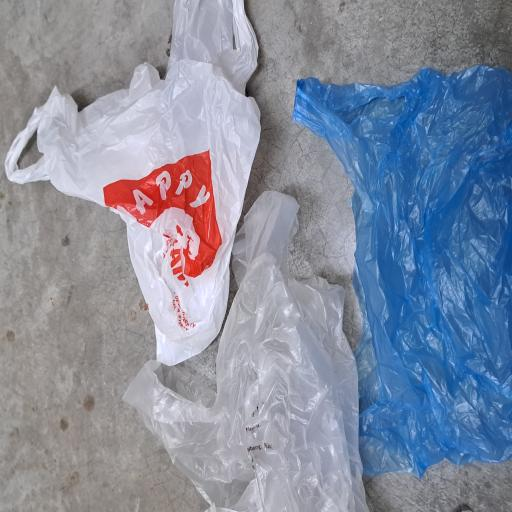plastic bag: (108, 6, 384, 351), (0, 164, 243, 488), (30, 388, 336, 512)
